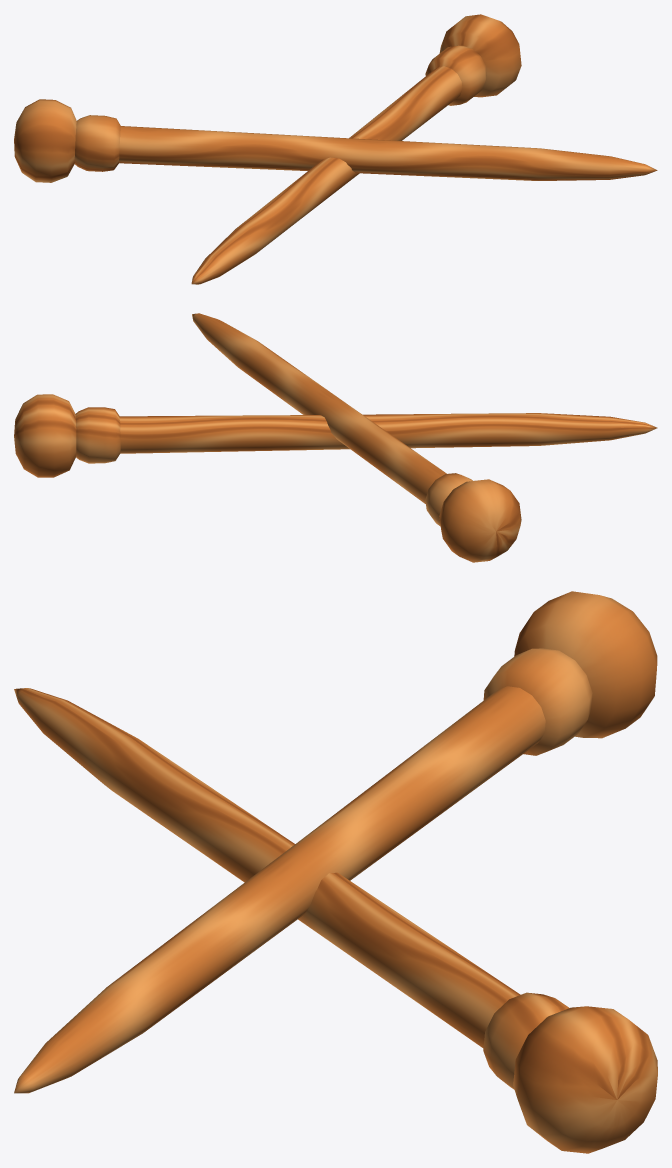
File: knitting_needles.glb
3 renders of one model, top to bottom at view 1: azimuth 30°, elevation 25°; view 2: azimuth 150°, elevation 25°; view 3: azimuth 270°, elevation 25°, orthographic. The views are drawn at different scales.
Visible parts, largest first — view 1: model; view 2: model; view 3: model.
Part boxes in pixels (bbox=[...]): model: bbox=[14, 14, 657, 284]; model: bbox=[14, 313, 657, 562]; model: bbox=[14, 591, 657, 1153].
Size of the model in its own units: 0.3633 by 0.0675 by 0.2289.
Materials: 1 (1 with a texture image).
